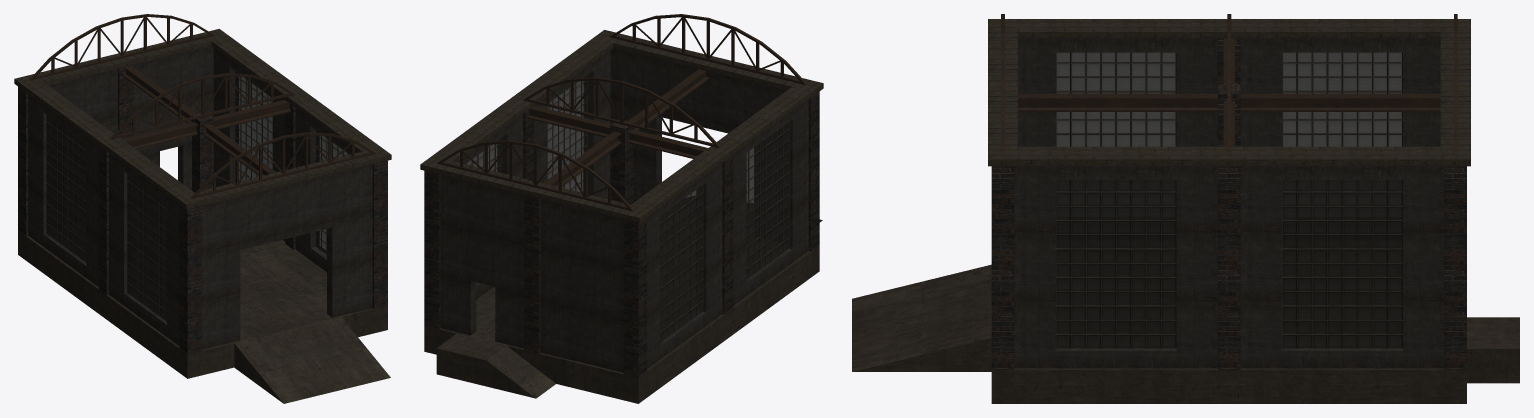
File: warehouse_mx_3.obj
The picture shows the model from 3 angles, left to right: view 1: azimuth 30°, elevation 25°; view 2: azimuth 150°, elevation 25°; view 3: azimuth 270°, elevation 25°; orthographic projection. The views are drawn at different scales.
Parts seen in each view (by area): view 1: warehouse_mx_3; view 2: warehouse_mx_3; view 3: warehouse_mx_3.
Part boxes in pixels (x1,y1,x2,y2): warehouse_mx_3: (14,14,391,403); warehouse_mx_3: (420,14,823,403); warehouse_mx_3: (852,14,1519,403).
Bounding box in the file's own units: 8.8 × 8.82 × 17.7.
